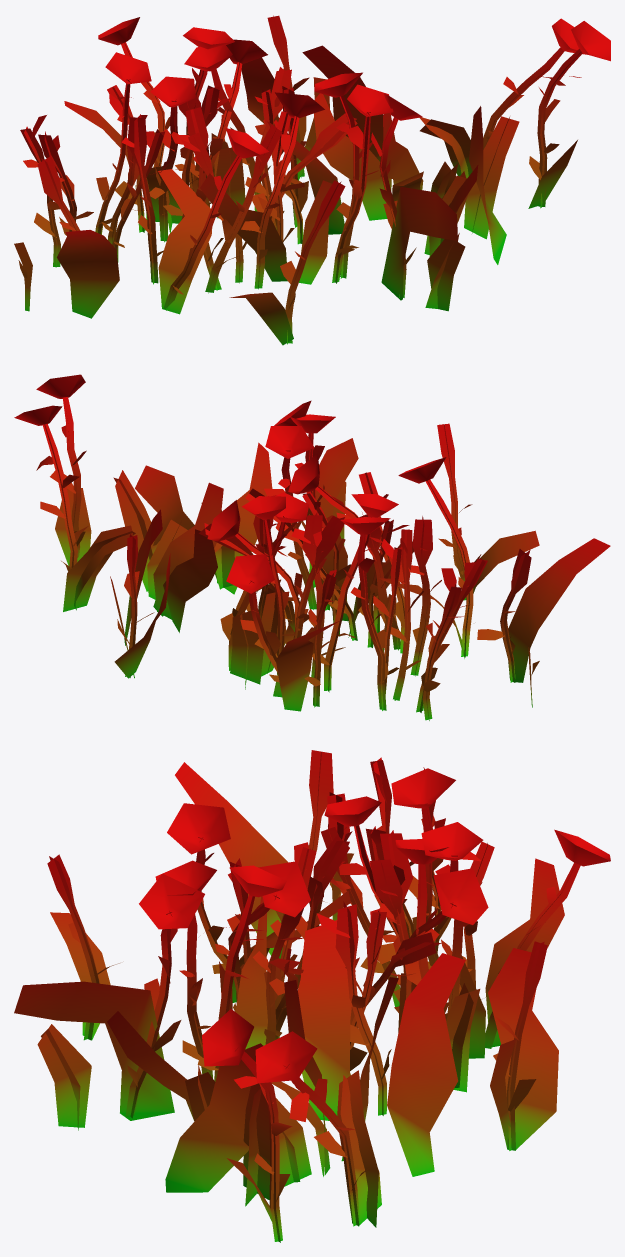
File: Var11_LOD0.fbx
3 views of the same model, one above another, from view 1: azimuth 30°, elevation 25°; view 2: azimuth 150°, elevation 25°; view 3: azimuth 270°, elevation 25° (orthographic). The views are drawn at different scales.
Parts seen in each view (by area): view 1: _ffde_Var11_LOD0; view 2: _ffde_Var11_LOD0; view 3: _ffde_Var11_LOD0.
Part boxes in pixels (box(x1,y1,x2,y2)): _ffde_Var11_LOD0: box(14, 15, 610, 345); _ffde_Var11_LOD0: box(14, 374, 610, 720); _ffde_Var11_LOD0: box(14, 750, 610, 1242).
Size of the model in its own units: 26.87 by 9.11 by 19.32.
